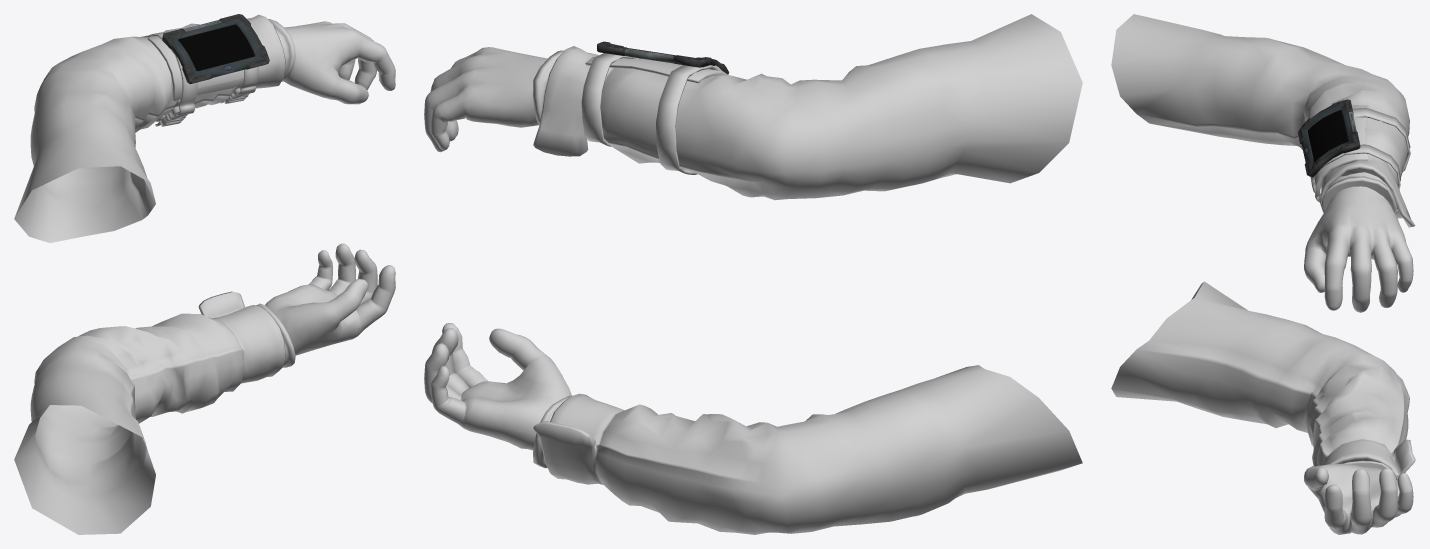
Rendered from c_mul_mp_pmc_longsleeve_viewhands_LOD0.obj.
3 renders of one model, left to right at view 1: azimuth 30°, elevation 25°; view 2: azimuth 150°, elevation 25°; view 3: azimuth 270°, elevation 25°, orthographic. The views are drawn at different scales.
Visible parts, largest first — view 1: mtl_viewarm_mul_mp_pmc_longsleeve, mtl_viewarm_gen_datapad, mtl_viewarm_watchglass, mtl_viewarm_mul_mp_pmc_device; view 2: mtl_viewarm_mul_mp_pmc_longsleeve, mtl_viewarm_gen_datapad, mtl_viewarm_mul_mp_pmc_device; view 3: mtl_viewarm_mul_mp_pmc_longsleeve, mtl_viewarm_gen_datapad, mtl_viewarm_watchglass, mtl_viewarm_mul_mp_pmc_device.
Part boxes in pixels (<box>): mtl_viewarm_mul_mp_pmc_longsleeve: <box>14,14,395,534</box>; mtl_viewarm_gen_datapad: <box>162,14,269,84</box>; mtl_viewarm_watchglass: <box>178,24,254,70</box>; mtl_viewarm_mul_mp_pmc_device: <box>147,36,266,100</box>; mtl_viewarm_mul_mp_pmc_longsleeve: <box>424,14,1082,534</box>; mtl_viewarm_gen_datapad: <box>597,41,729,74</box>; mtl_viewarm_mul_mp_pmc_device: <box>585,56,728,83</box>; mtl_viewarm_mul_mp_pmc_longsleeve: <box>1111,14,1415,534</box>; mtl_viewarm_gen_datapad: <box>1298,99,1360,177</box>; mtl_viewarm_watchglass: <box>1308,110,1348,162</box>; mtl_viewarm_mul_mp_pmc_device: <box>1314,105,1368,196</box>.
Size of the model in its own units: 68.58 by 55.55 by 40.05.
